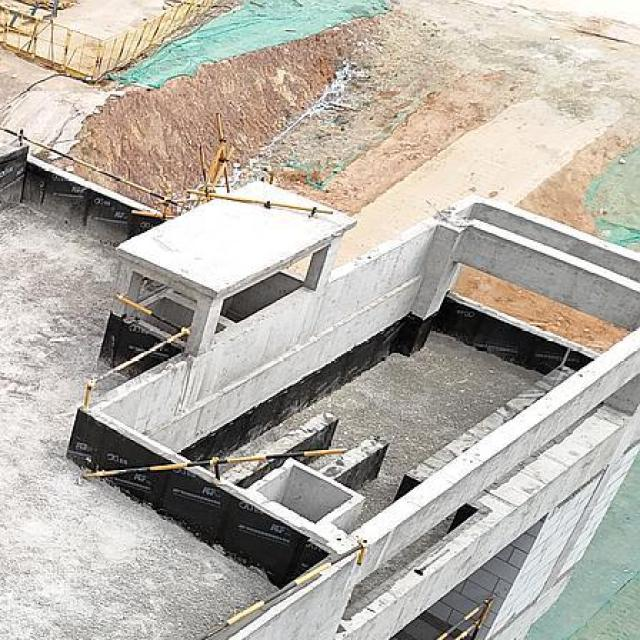edge_guardrail: (0, 124, 191, 219), (196, 537, 368, 637), (84, 291, 192, 409), (84, 449, 346, 481), (186, 190, 333, 217), (432, 595, 494, 640)
